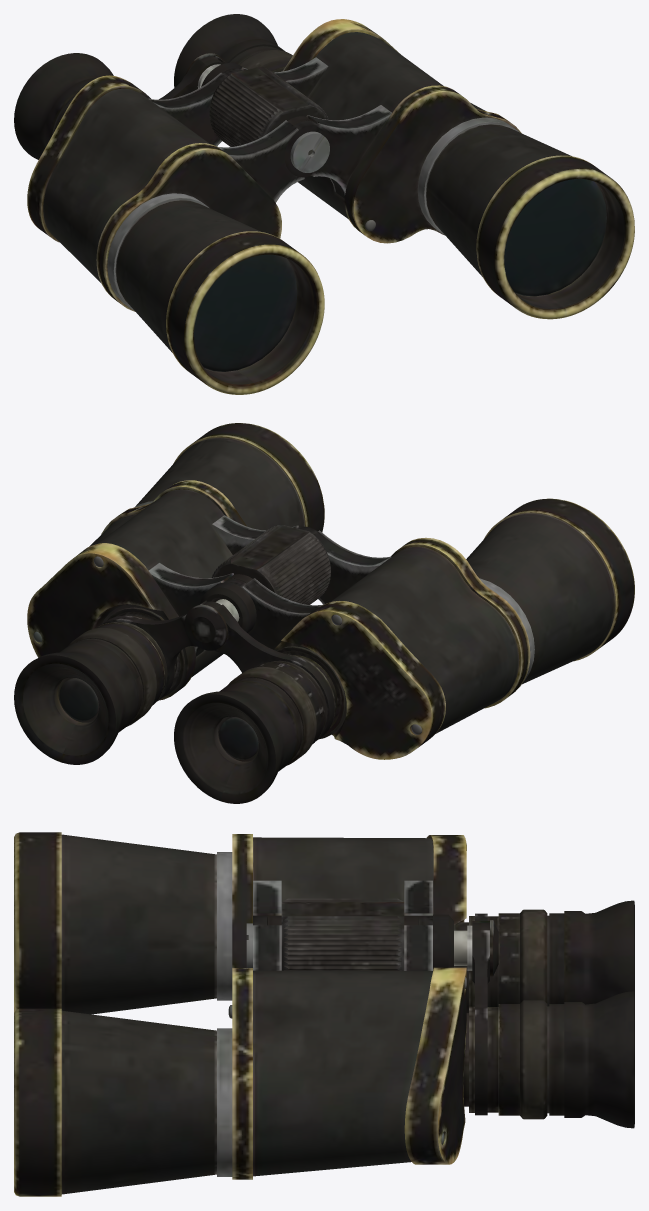
Rendered from m_vintage_binocular.glb.
The picture shows the model from 3 angles, top to bottom: view 1: azimuth 30°, elevation 25°; view 2: azimuth 150°, elevation 25°; view 3: azimuth 270°, elevation 25°; orthographic projection. The views are drawn at different scales.
Parts seen in each view (by area): view 1: vintage_binocular_left_lens; view 2: vintage_binocular_left_lens; view 3: vintage_binocular_left_lens.
Boxes of the visible parts, box(x1,y1,x2,y2) form: vintage_binocular_left_lens: box(14, 14, 634, 394); vintage_binocular_left_lens: box(14, 423, 634, 803); vintage_binocular_left_lens: box(14, 832, 634, 1196).
Size of the model in its own units: 0.194 by 0.0684 by 0.1992.
Materials: 1 (1 with a texture image).
